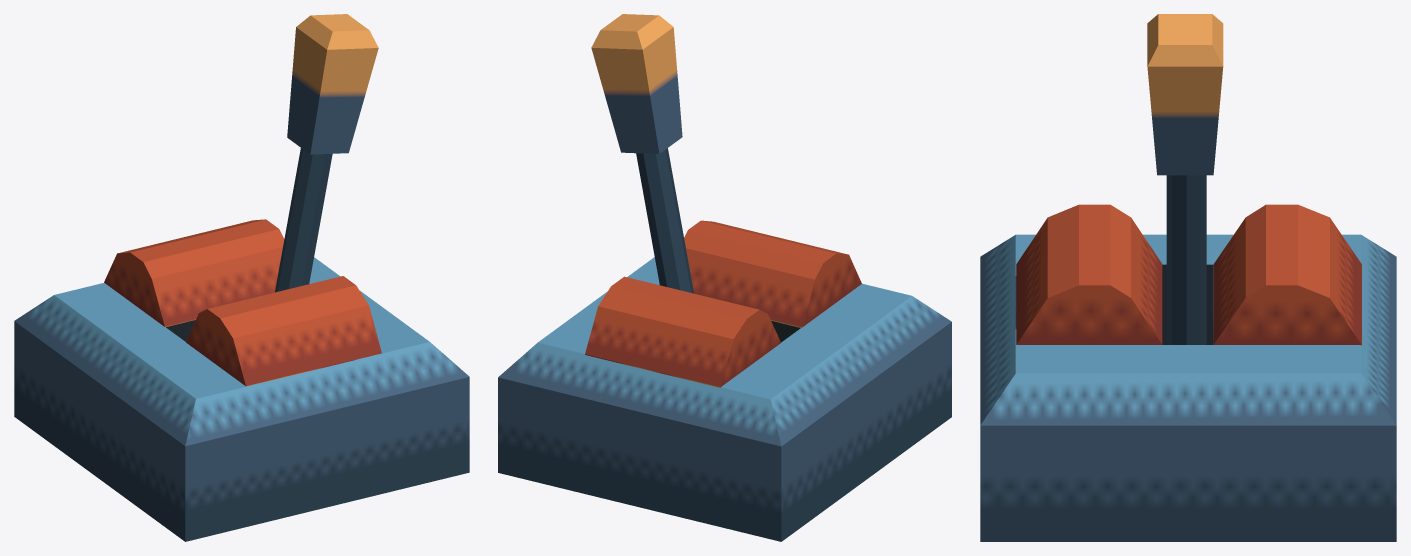
The model's file is lever_left.fbx.
3 views of the same model, side by side, from view 1: azimuth 30°, elevation 25°; view 2: azimuth 150°, elevation 25°; view 3: azimuth 270°, elevation 25° (orthographic). The views are drawn at different scales.
Parts seen in each view (by area): view 1: base, lever; view 2: base, lever; view 3: base, lever.
Boxes of the visible parts, <box> form: base: <box>14,219,469,541</box>; lever: <box>275,14,378,292</box>; base: <box>498,220,951,541</box>; lever: <box>591,14,693,293</box>; base: <box>980,204,1396,541</box>; lever: <box>1147,14,1223,344</box>.
Bounding box in the file's own units: 2.81 × 3.81 × 2.93.
2 materials, 2 textured.
